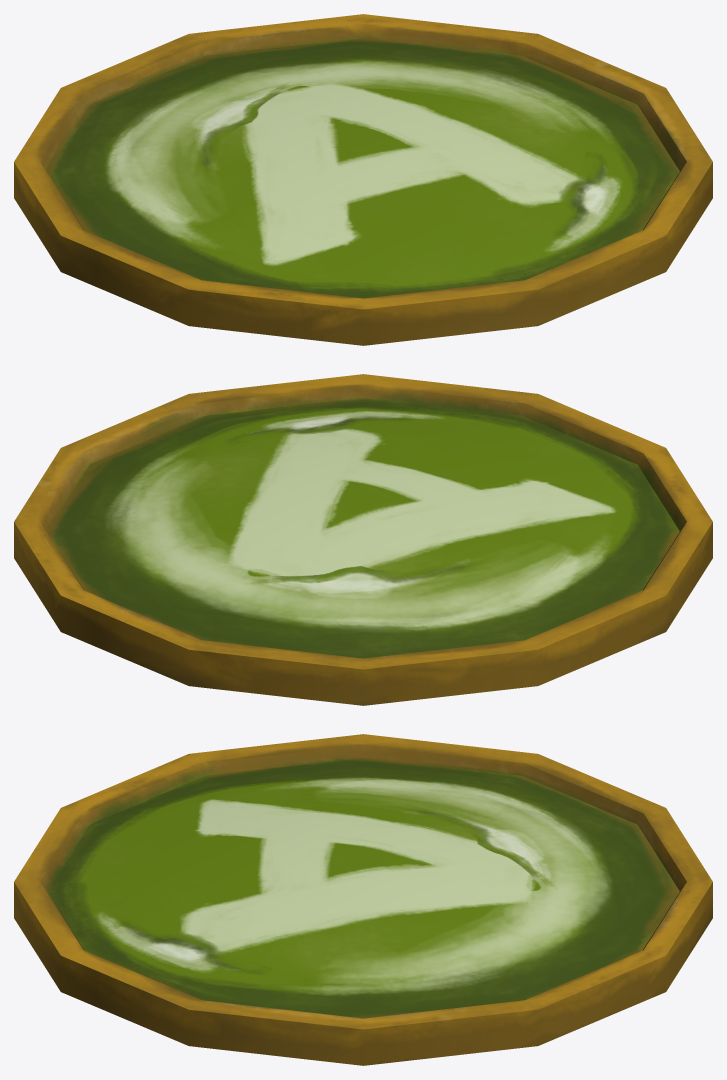
Rendered from cursor_xboxPrompt.fbx.
3 renders of one model, top to bottom at view 1: azimuth 30°, elevation 25°; view 2: azimuth 150°, elevation 25°; view 3: azimuth 270°, elevation 25°, orthographic.
Visible parts, largest first — view 1: Cylinder007; view 2: Cylinder007; view 3: Cylinder007.
Boxes of the visible parts, x1,y1,x2,y2 form: Cylinder007: [14, 14, 712, 345]; Cylinder007: [14, 374, 712, 705]; Cylinder007: [14, 734, 712, 1065].
Bounding box in the file's own units: 5.14 × 0.5034 × 5.14.
1 material, 1 textured.
